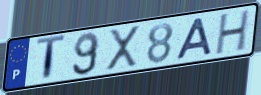8: (144, 21, 176, 66)
9: (70, 31, 101, 78)
A: (174, 16, 214, 61)
H: (213, 8, 252, 57)
T: (35, 33, 67, 83)
X: (106, 24, 142, 73)
